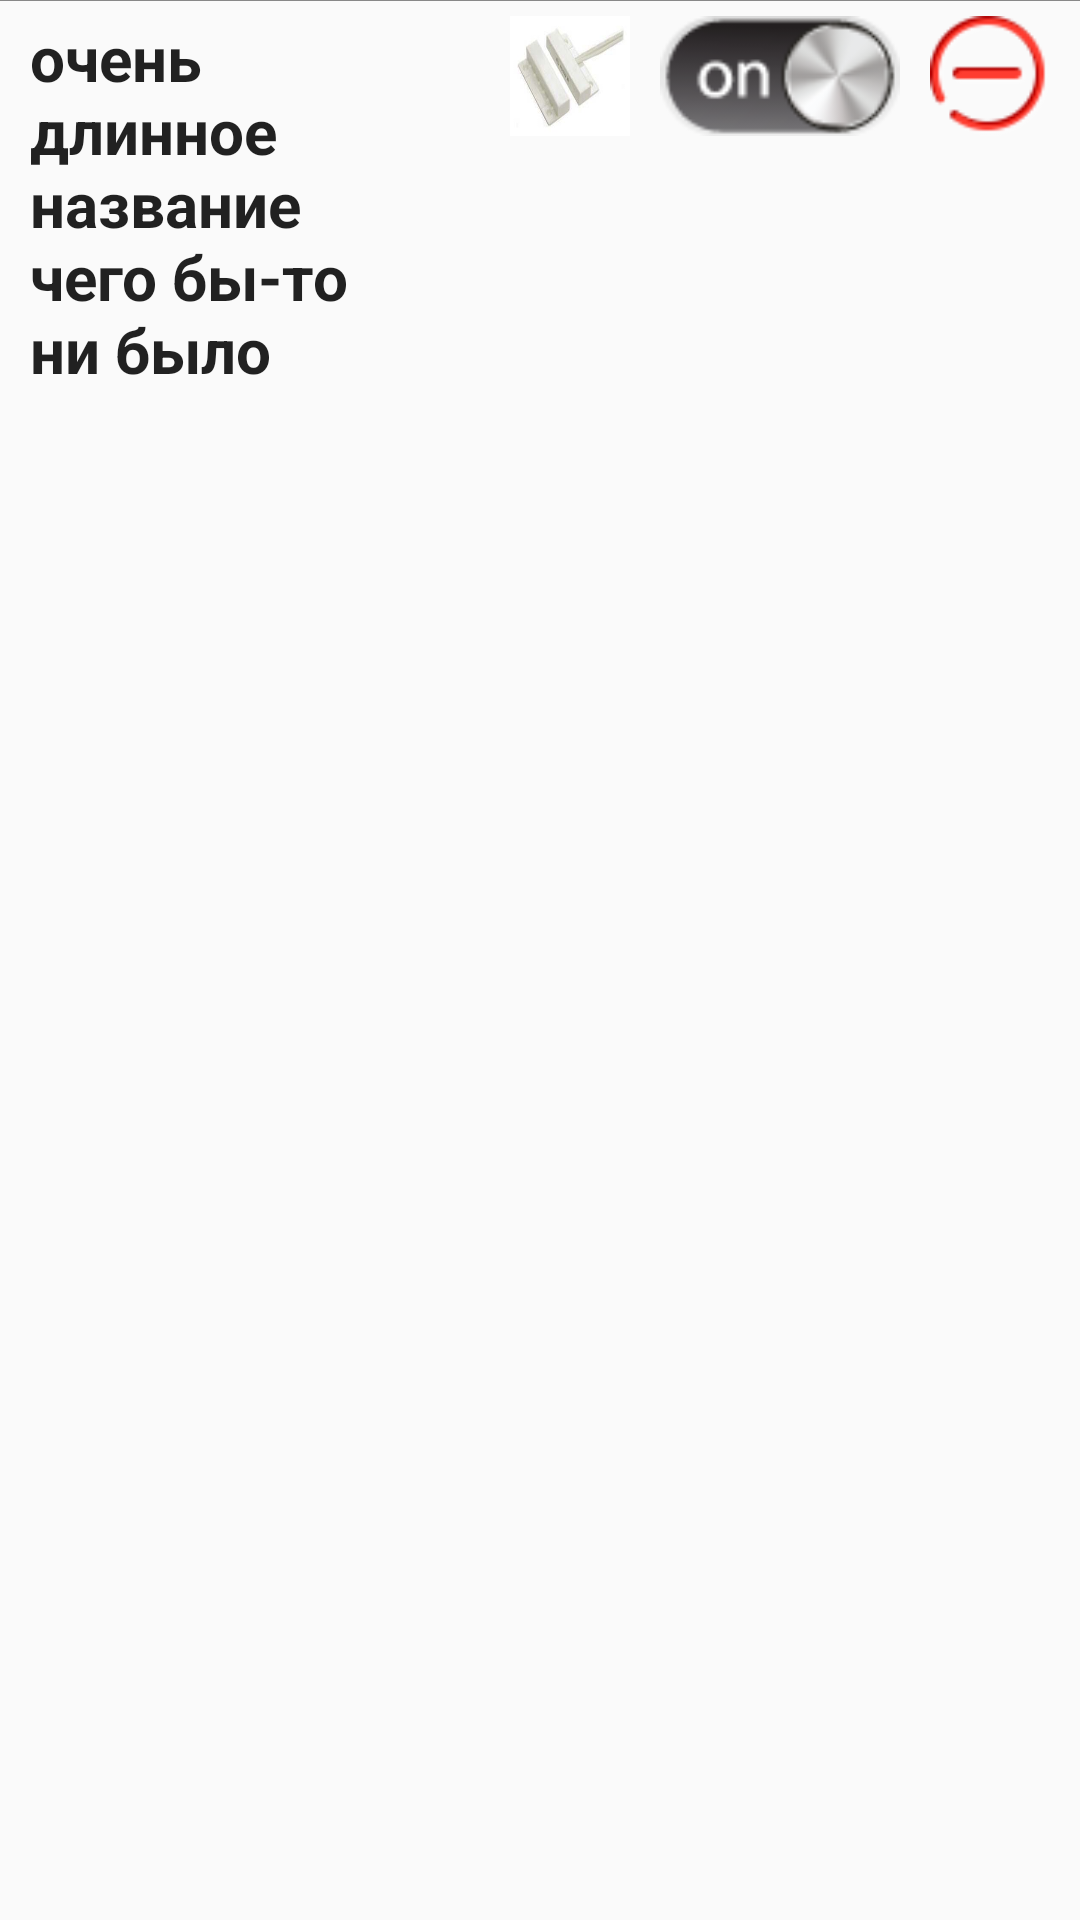

Where to tap for icons on this 1080*1920 app screen, as point (x, y):
gercon: point (571, 78)
remove: point (987, 73)
